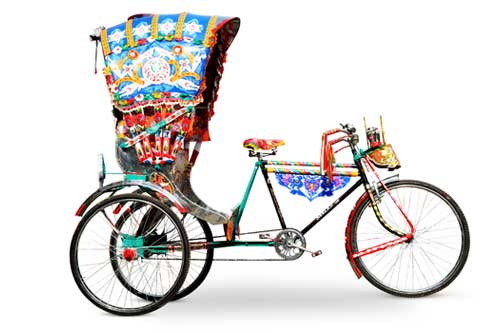Rickshaw: (63, 9, 469, 313)
